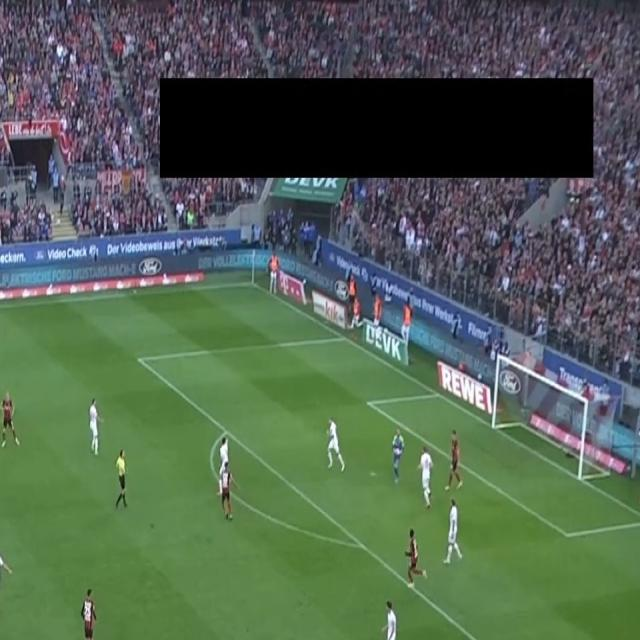ball: (395, 447, 400, 455)
